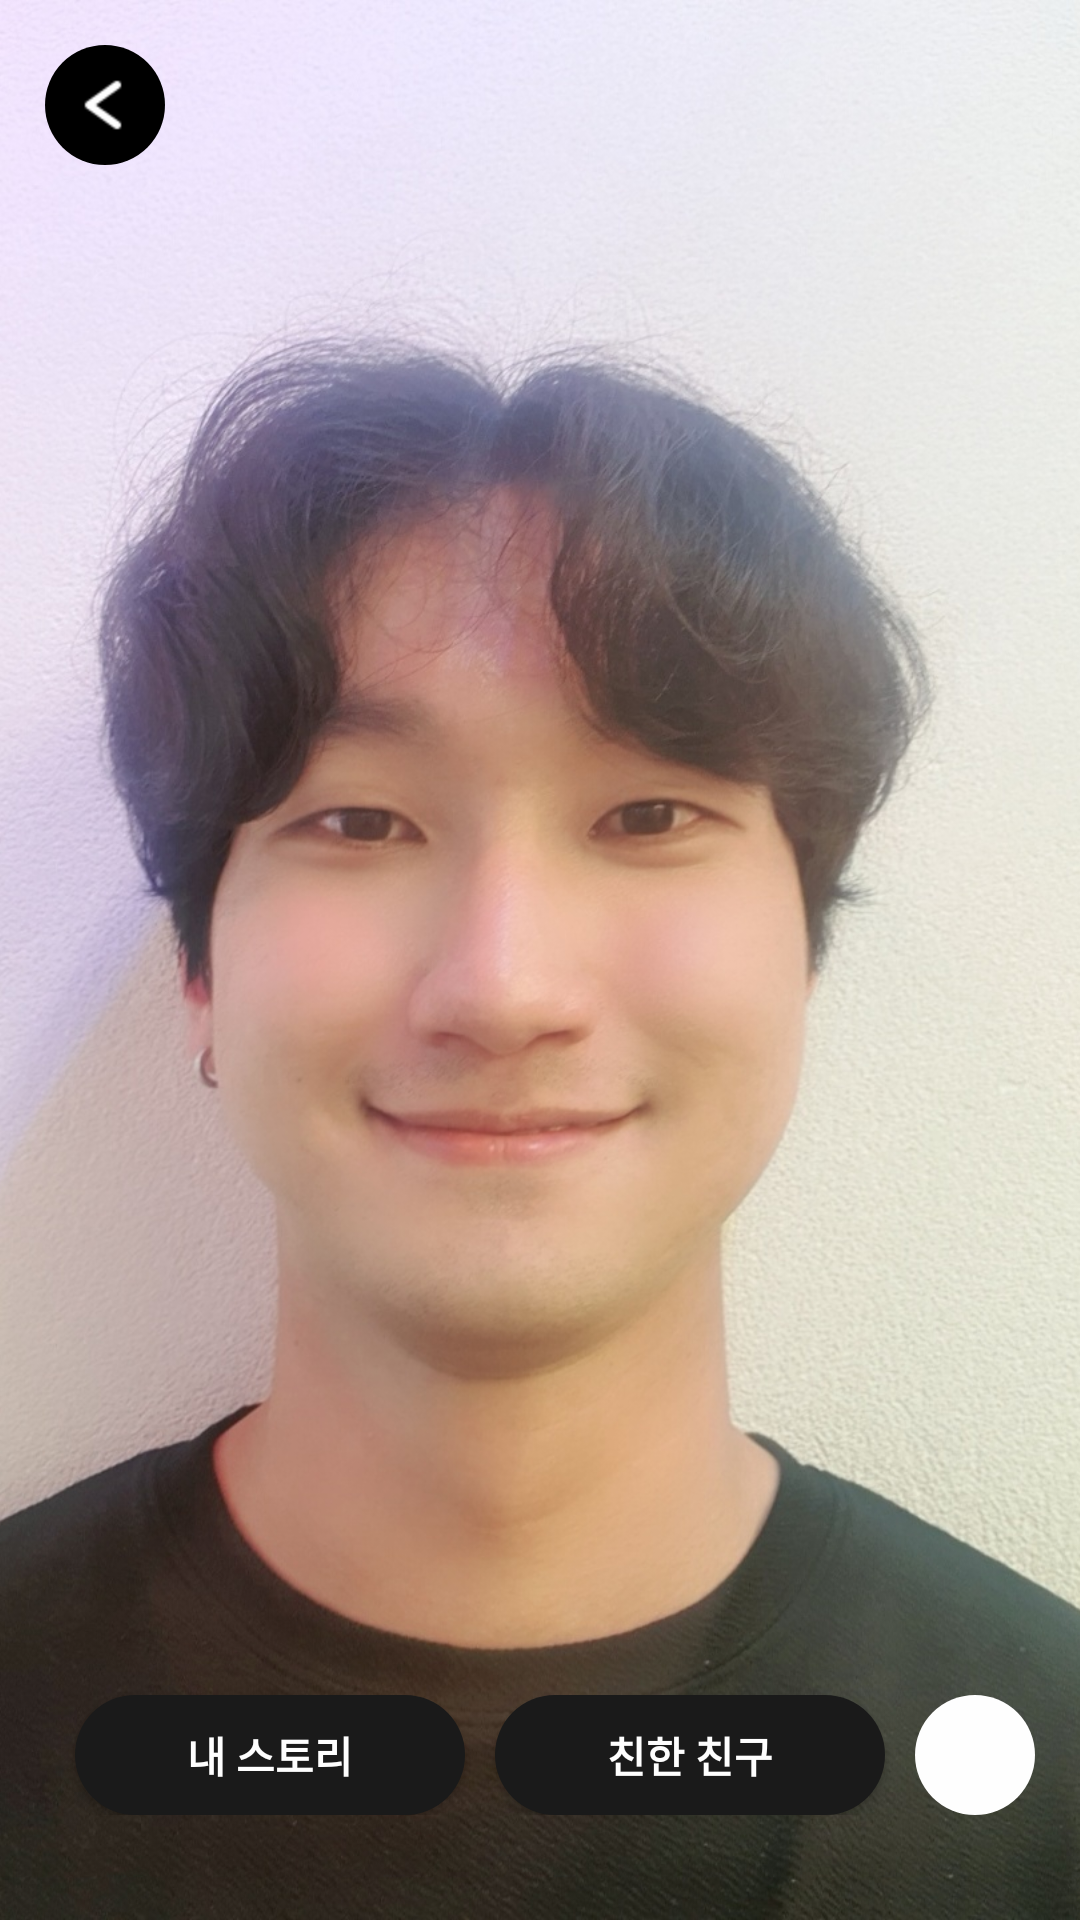

Screen size 1080px×1920px. Icon name, then its box in pixels as rect(x1, y1, x2, y2):
makestory left: rect(45, 45, 165, 165)
